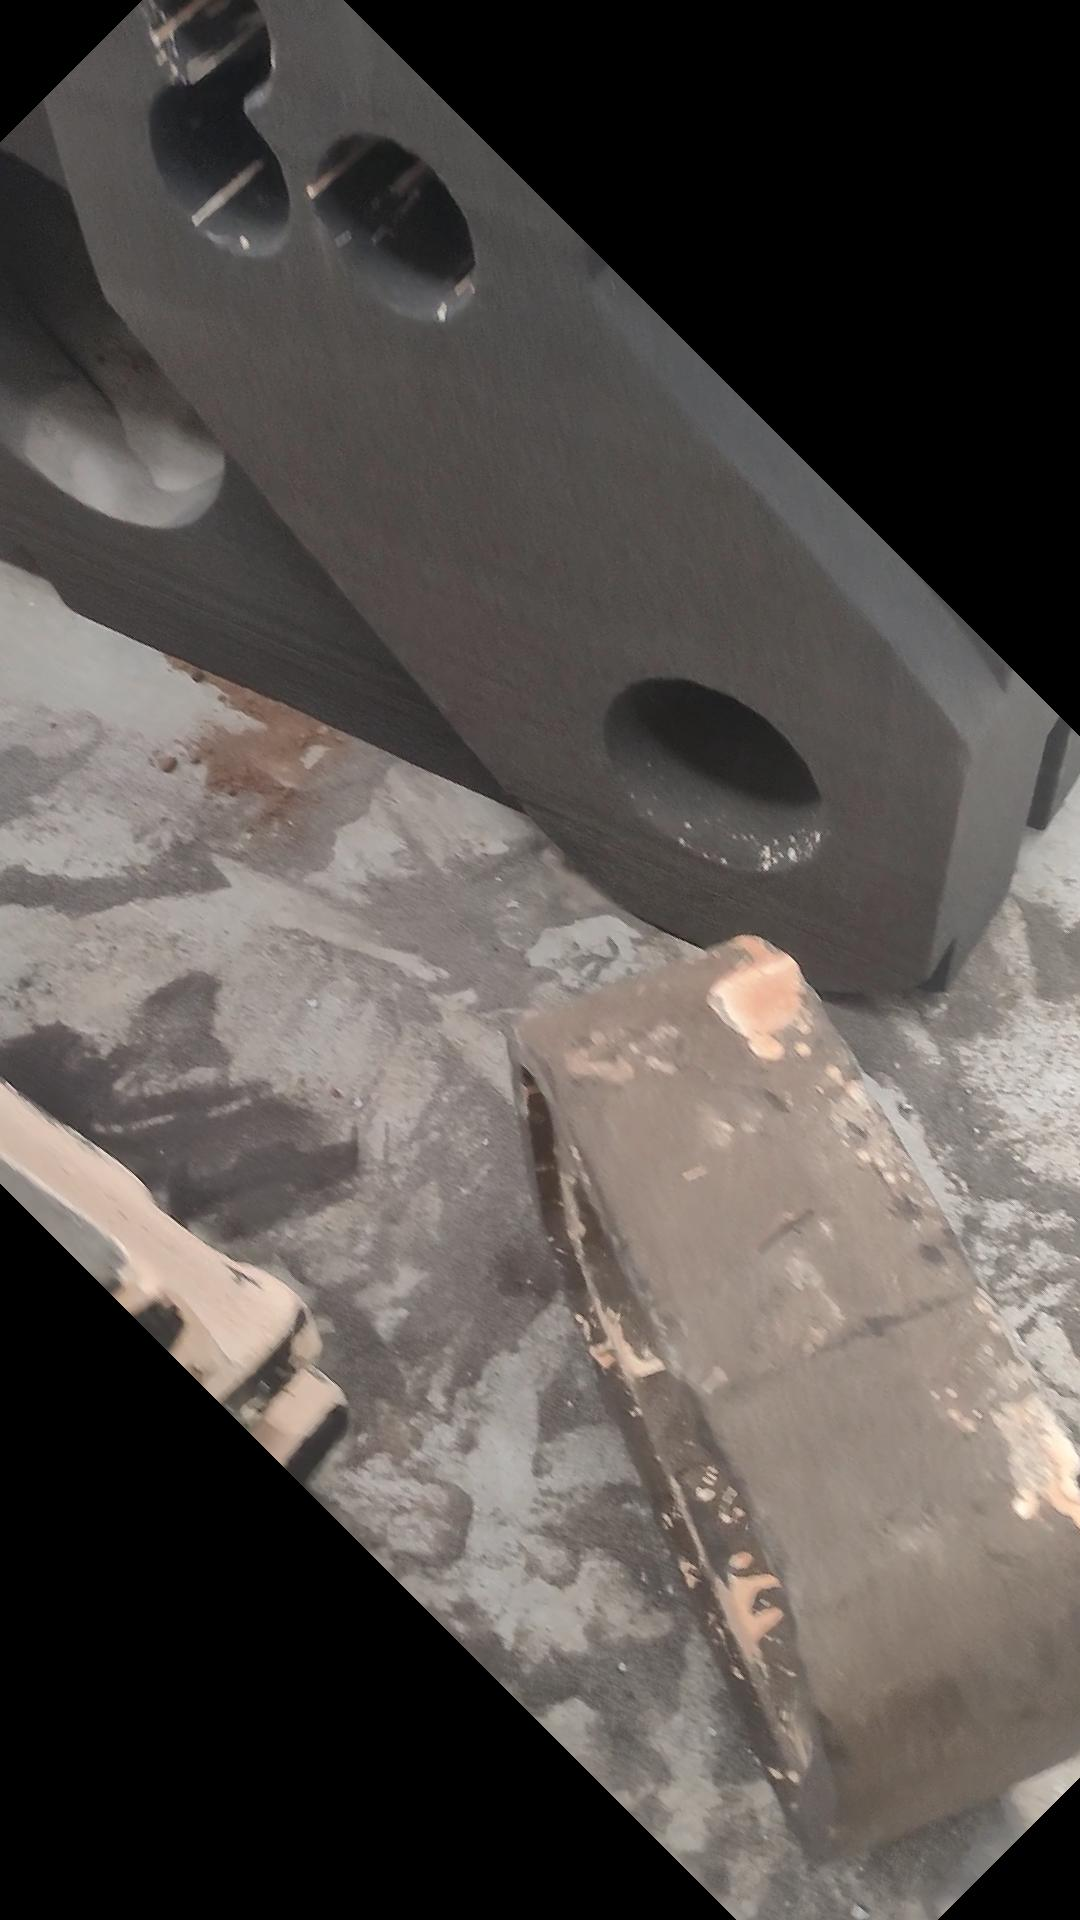pouring hole: (604, 678, 825, 877)
